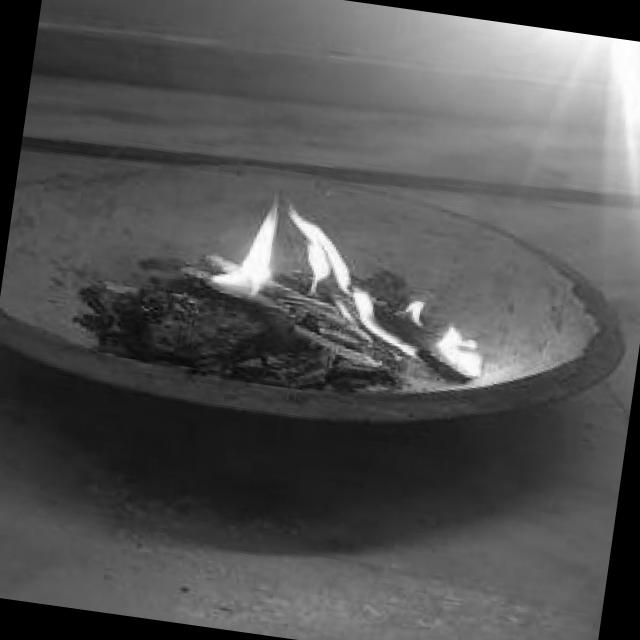fire: (166, 178, 504, 384)
